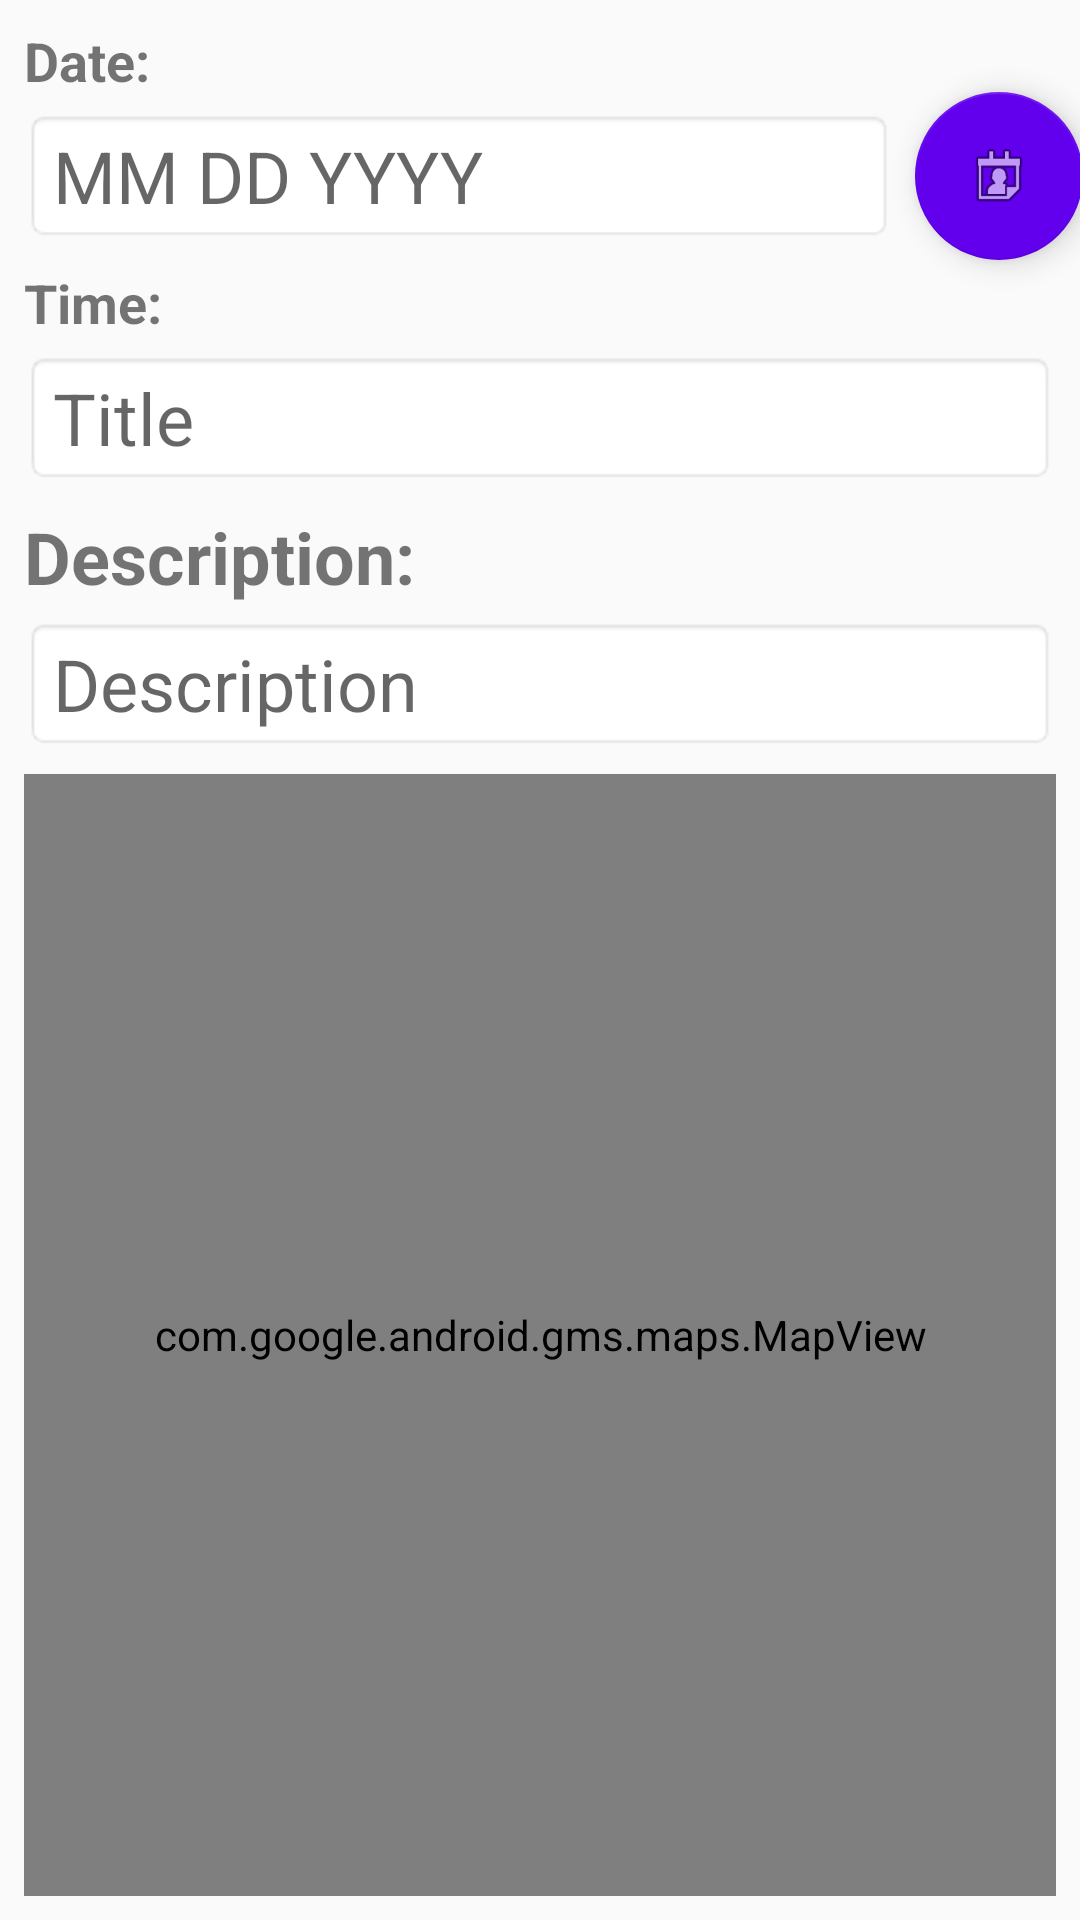

Screen size 1080px×1920px. Icon name, then its box in pixels as (x1, y1, x2, y2):
calendar: (915, 92, 1080, 260)
